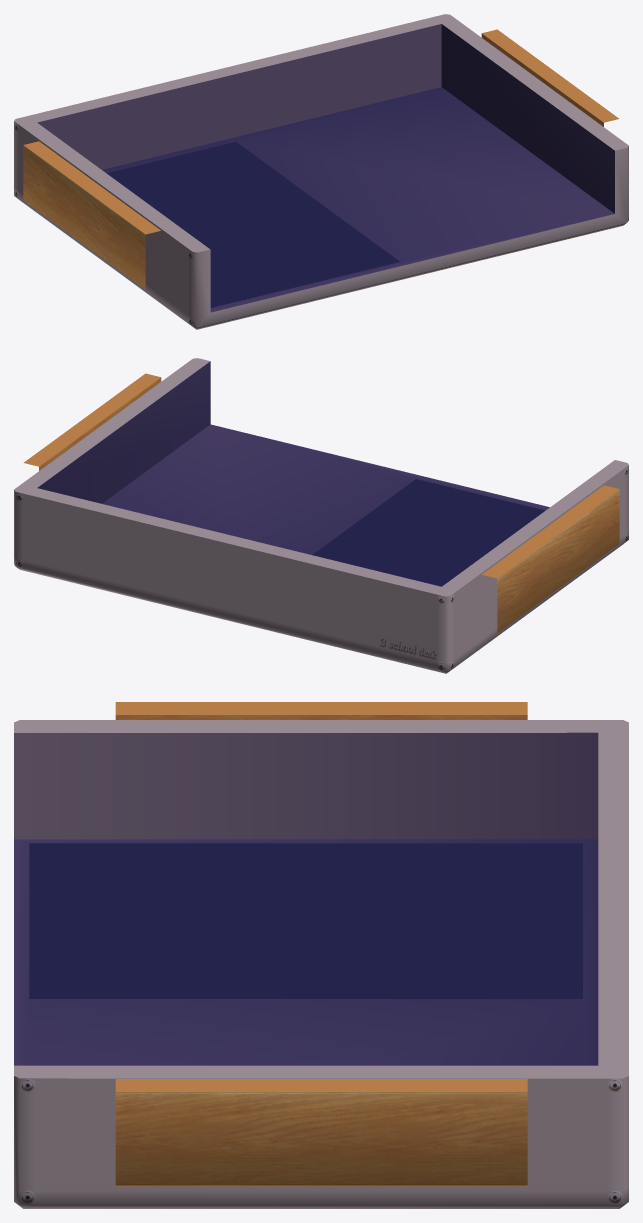
The picture shows the model from 3 angles, top to bottom: view 1: azimuth 30°, elevation 25°; view 2: azimuth 150°, elevation 25°; view 3: azimuth 270°, elevation 25°; orthographic projection. The views are drawn at different scales.
Visible parts, largest first — view 1: Joint_0_Object_1, Joint_0_Object_0, Joint_0_Object_2; view 2: Joint_0_Object_0, Joint_0_Object_1, Joint_0_Object_2; view 3: Joint_0_Object_1, Joint_0_Object_0, Joint_0_Object_2.
Boxes of the visible parts, bbox=[...] form: Joint_0_Object_1: bbox=[37, 24, 614, 312]; Joint_0_Object_0: bbox=[14, 14, 628, 329]; Joint_0_Object_2: bbox=[23, 29, 619, 289]; Joint_0_Object_0: bbox=[14, 358, 628, 673]; Joint_0_Object_1: bbox=[37, 361, 549, 586]; Joint_0_Object_2: bbox=[23, 373, 619, 633]; Joint_0_Object_1: bbox=[14, 732, 598, 1065]; Joint_0_Object_0: bbox=[14, 720, 628, 1208]; Joint_0_Object_2: bbox=[115, 702, 527, 1186].
Bounding box in the file's own units: 1500 × 245 × 1000.
Materials: 3 (3 with a texture image).
